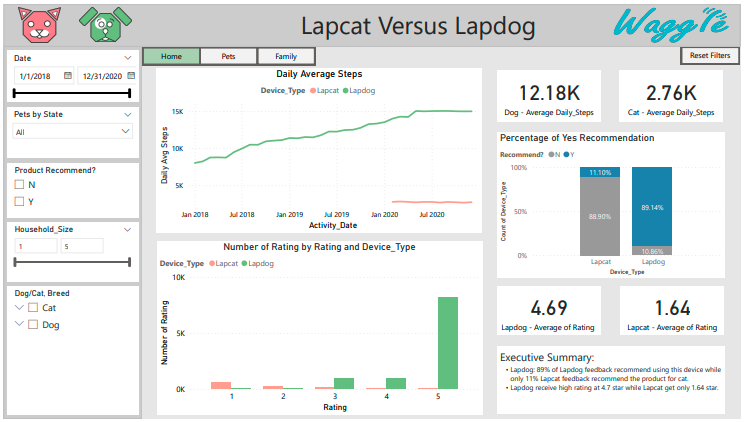

The dashboard page shown, as its layout file describes it:
{"tool":"powerbi","page":{"name":"Home","canvas":[1280,720],"ordinal":0},"visuals":[{"type":"shape","box":[0,0,1280,72.9],"z":0,"group":"g1"},{"type":"textbox","box":[365.4,2,607.7,70.5],"z":0},{"type":"shape","box":[0,72.5,240.3,647.4],"z":0,"group":"g2"},{"type":"image","box":[1055.3,0,210.1,72],"z":1000,"group":"g1"},{"type":"lineChart","title":"Daily Average Steps","fields":{"Series":["Rating_Data.Device_Type"],"Y":["Avg(Tracker_Data.Daily_Steps)"],"Category":["Tracker_Data.Activity_Date"]},"box":[266.4,110.2,565.5,285.8],"z":1000},{"type":"slicer","fields":{"Values":["Family_Data.State"]},"box":[5,177.8,229.4,88.4],"z":1000,"group":"g2"},{"type":"image","box":[6,0,112.2,72.5],"z":2000,"group":"g1"},{"type":"slicer","fields":{"Values":["Date_Table.Date"]},"box":[5,79.5,229.4,90.4],"z":2000,"group":"g2"},{"type":"clusteredColumnChart","fields":{"Category":["Rating_Data.Rating"],"Y":["CountNonNull(Rating_Data.Rating)"],"Series":["Rating_Data.Device_Type"]},"box":[266.1,411.1,566,301.9],"z":2000},{"type":"image","box":[120.2,0,114.2,69.5],"z":3000,"group":"g1"},{"type":"slicer","fields":{"Values":["Rating_Data.Would You Recommend this Product?"]},"box":[6,275.6,227.8,94.2],"z":3000,"group":"g2"},{"type":"card","fields":{"Values":["Avg(Rating_Data.Rating)"]},"box":[857.8,491.2,180.2,83.9],"z":3000},{"type":"textbox","box":[510.8,0,462.3,69.7],"z":4000,"group":"g1"},{"type":"slicer","fields":{"Values":["Family_Data.Household_Size"]},"box":[6,378.2,227.8,102.6],"z":4000,"group":"g2"},{"type":"card","fields":{"Values":["Avg(Rating_Data.Rating)"]},"box":[1072.4,491.2,180.2,83.9],"z":4000},{"type":"card","fields":{"Values":["Avg(Tracker_Data.Daily_Steps)"]},"box":[857.8,114,180.2,90.1],"z":5000},{"type":"slicer","fields":{"Values":["Pet_Data.Dog/Cat","Pet_Data.Breed"]},"box":[6,489.1,227.8,224.3],"z":5000,"group":"g2"},{"type":"card","fields":{"Values":["Avg(Tracker_Data.Daily_Steps)"]},"box":[1070.6,114,180.2,90.1],"z":6000},{"type":"actionButton","title":"Home","box":[439.9,73.3,102.5,31.8],"z":7000},{"type":"actionButton","title":"Home","box":[340.1,73.3,102.5,31.8],"z":8000},{"type":"actionButton","title":"Home","box":[1176.9,72.5,103.1,31.6],"z":9000},{"type":"actionButton","title":"Home","box":[240.3,73.3,102.5,31.8],"z":10000},{"type":"hundredPercentStackedColumnChart","title":"Percentage of Yes Recommendation","fields":{"Category":["Rating_Data.Device_Type"],"Series":["Rating_Data.Would You Recommend this Product?"],"Y":["CountNonNull(Rating_Data.Device_Type)"]},"box":[857.8,221.7,394.9,252.6],"z":11000},{"type":"textbox","box":[857.8,595.4,394.9,117.5],"z":12000},{"type":"group","id":"g1","title":"Banner_Home","box":[0,0,1280,72.9],"z":13000},{"type":"group","id":"g2","title":"Slicer_Home","box":[0,72.5,240.3,647.4],"z":14000}]}

Visuals, with their boxes in screenshot pixels (x1, y1, x2, y2), scaled from the page's 1280x720 canvas onto the 744x422 screenshot:
shape: (left=0, top=0, right=743, bottom=43)
textbox: (left=212, top=1, right=566, bottom=42)
shape: (left=0, top=42, right=140, bottom=421)
image: (left=613, top=0, right=736, bottom=42)
"Daily Average Steps" lineChart: (left=155, top=65, right=484, bottom=232)
slicer - Family_Data.State: (left=3, top=104, right=136, bottom=156)
image: (left=3, top=0, right=69, bottom=42)
slicer - Date_Table.Date: (left=3, top=47, right=136, bottom=100)
clusteredColumnChart - Rating_Data.Rating x CountNonNull(Rating_Data.Rating): (left=155, top=241, right=484, bottom=418)
image: (left=70, top=0, right=136, bottom=41)
slicer - Rating_Data.Would You Recommend this Product?: (left=3, top=162, right=136, bottom=217)
card - Avg(Rating_Data.Rating): (left=499, top=288, right=603, bottom=337)
textbox: (left=297, top=0, right=566, bottom=41)
slicer - Family_Data.Household_Size: (left=3, top=222, right=136, bottom=282)
card - Avg(Rating_Data.Rating): (left=623, top=288, right=728, bottom=337)
card - Avg(Tracker_Data.Daily_Steps): (left=499, top=67, right=603, bottom=120)
slicer - Pet_Data.Dog/Cat x Pet_Data.Breed: (left=3, top=287, right=136, bottom=418)
card - Avg(Tracker_Data.Daily_Steps): (left=622, top=67, right=727, bottom=120)
"Home" actionButton: (left=256, top=43, right=315, bottom=62)
"Home" actionButton: (left=198, top=43, right=257, bottom=62)
"Home" actionButton: (left=684, top=42, right=743, bottom=61)
"Home" actionButton: (left=140, top=43, right=199, bottom=62)
"Percentage of Yes Recommendation" hundredPercentStackedColumnChart: (left=499, top=130, right=728, bottom=278)
textbox: (left=499, top=349, right=728, bottom=418)
"Banner_Home" group: (left=0, top=0, right=743, bottom=43)
"Slicer_Home" group: (left=0, top=42, right=140, bottom=421)
